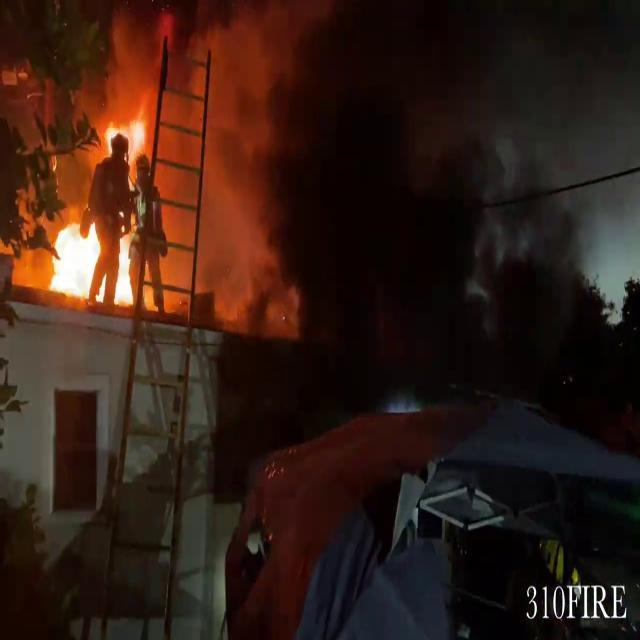Fire: (43, 108, 149, 314), (43, 207, 145, 313)
Smoke: (119, 0, 639, 348)
